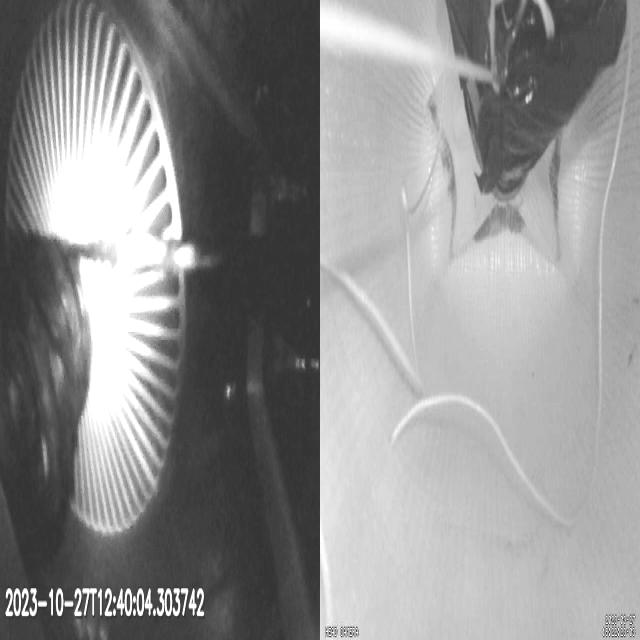red-circle: (428, 85, 564, 258)
